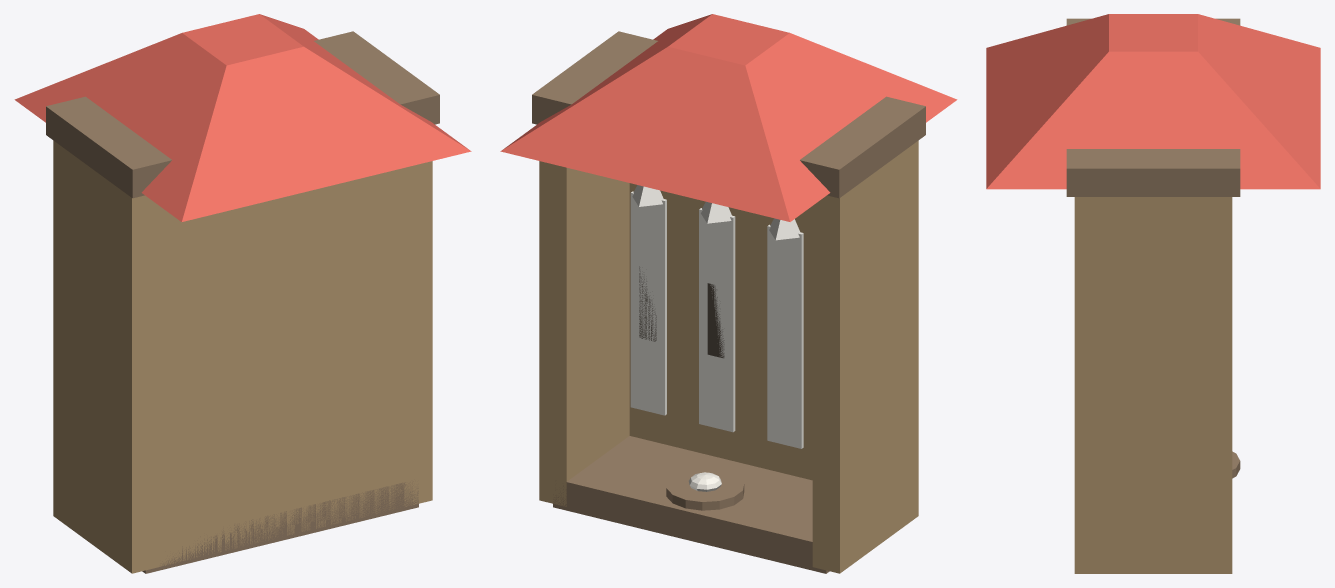
File: ofuda_box.glb
3 renders of one model, left to right at view 1: azimuth 30°, elevation 25°; view 2: azimuth 150°, elevation 25°; view 3: azimuth 270°, elevation 25°, orthographic.
Parts seen in each view (by area): view 1: ofuda_box; view 2: ofuda_box; view 3: ofuda_box.
Boxes of the visible parts, box(x1,y1,x2,y2) form: ofuda_box: box(14, 14, 471, 573); ofuda_box: box(500, 14, 957, 573); ofuda_box: box(986, 14, 1320, 573).
Size of the model in its own units: 0.45 by 0.66 by 0.4243.
